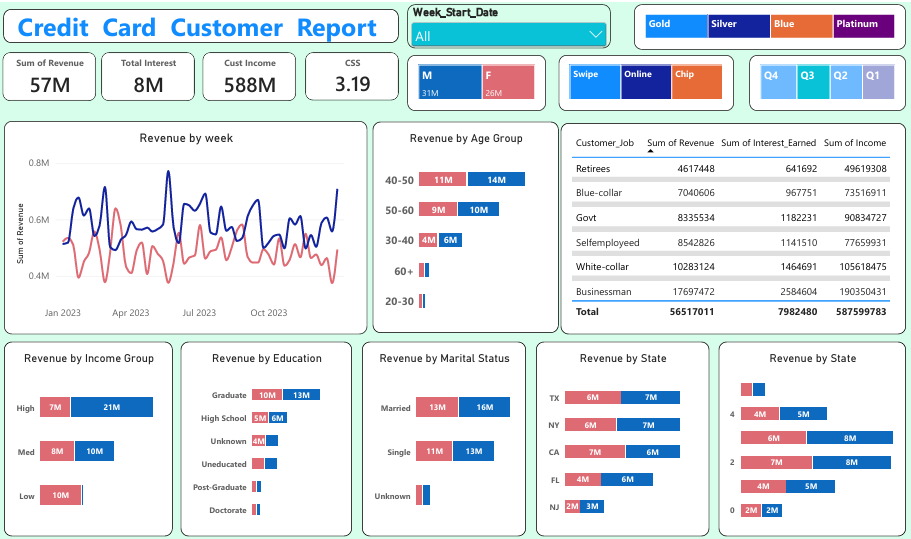

The dashboard page shown, as its layout file describes it:
{"tool":"powerbi","page":{"name":"CC Customer","canvas":[1920,1080],"ordinal":1},"visuals":[{"type":"textbox","box":[14.3,8.6,592.9,51.4],"z":0},{"type":"barChart","title":"Revenue by Income Group","fields":{"Category":["ccdb cust_detail.IncomeGroup"],"Series":["ccdb cust_detail.Gender"],"Y":["Sum(ccdb cc_detail.Revenue)"]},"box":[15,508.3,253.3,291.7],"z":1},{"type":"tableEx","fields":{"Values":["ccdb cust_detail.Customer_Job","Sum(ccdb cc_detail.Revenue)","Sum(ccdb cc_detail.Interest_Earned)","Sum(ccdb cust_detail.Income)"]},"box":[850,180,518.3,316.7],"z":2},{"type":"cardVisual","title":"Revenue","fields":{"Data":["Sum(ccdb cc_detail.Revenue)"]},"box":[12.9,74.3,140,72.9],"z":3},{"type":"cardVisual","title":"R","fields":{"Data":["Sum(ccdb cc_detail.Interest_Earned)"]},"box":[161.4,74.3,140,72.5],"z":4},{"type":"cardVisual","title":"R","fields":{"Data":["Sum(ccdb cust_detail.Income)"]},"box":[312.9,74.3,140,72.5],"z":5},{"type":"cardVisual","title":"R","fields":{"Data":["Avg(ccdb cust_detail.Cust_Satisfaction_Score)"]},"box":[467.1,74.3,140,72],"z":6},{"type":"slicer","fields":{"Values":["ccdb cc_detail.Week_Start_Date"]},"box":[620,1.7,305,66.7],"z":7},{"type":"treemap","fields":{"Group":["ccdb cc_detail.Qtr"],"Values":["Avg(ccdb cc_detail.Client_Num)"]},"box":[1133.3,78.3,235,83.3],"z":8},{"type":"treemap","fields":{"Group":["ccdb cc_detail.Card_Category"],"Values":["Avg(ccdb cc_detail.Client_Num)"]},"box":[960,1.7,408.3,68.3],"z":10},{"type":"lineChart","title":"Revenue by week","fields":{"Category":["ccdb cc_detail.Week_Start_Date.Variation.Date Hierarchy.Year","ccdb cc_detail.Week_Start_Date.Variation.Date Hierarchy.Month","ccdb cc_detail.Week_Start_Date.Variation.Date Hierarchy.Day"],"Series":["ccdb cust_detail.Gender"],"Y":["Sum(ccdb cc_detail.Revenue)"]},"box":[15,176.7,545,320],"z":12},{"type":"treemap","fields":{"Group":["ccdb cust_detail.Gender"],"Values":["Sum(ccdb cc_detail.Revenue)"]},"box":[620,78.3,208.3,83.3],"z":13},{"type":"barChart","title":"Revenue by Education","fields":{"Category":["ccdb cust_detail.Education_Level"],"Series":["ccdb cust_detail.Gender"],"Y":["Sum(ccdb cc_detail.Revenue)"]},"box":[280,508.3,256.7,291.7],"z":15},{"type":"barChart","title":"Revenue by Marital Status","fields":{"Category":["ccdb cust_detail.Marital_Status"],"Series":["ccdb cust_detail.Gender"],"Y":["Sum(ccdb cc_detail.Revenue)"]},"box":[551.7,508.3,246.7,291.7],"z":16},{"type":"barChart","title":"Revenue by State","fields":{"Category":["ccdb cust_detail.state_cd"],"Series":["ccdb cust_detail.Gender"],"Y":["Sum(ccdb cc_detail.Revenue)"]},"box":[813.3,508.3,260,291.7],"z":17},{"type":"barChart","title":"Revenue by Age Group","fields":{"Category":["ccdb cust_detail.AgeGroup"],"Series":["ccdb cust_detail.Gender"],"Y":["Sum(ccdb cc_detail.Revenue)"]},"box":[568.3,178.3,278.3,316.7],"z":18},{"type":"barChart","title":"Revenue by State","fields":{"Category":["ccdb cust_detail.Dependent_Count"],"Series":["ccdb cust_detail.Gender"],"Y":["Sum(ccdb cc_detail.Revenue)"]},"box":[1086.7,508.3,281.7,291.7],"z":19},{"type":"treemap","fields":{"Group":["ccdb cc_detail.Use_Chip"],"Values":["Avg(ccdb cc_detail.Client_Num)"]},"box":[846.7,78.3,263.3,83.3],"z":20}]}

Visuals, with their boxes on the page's 1920x1080 design canvas (x1, y1, x2, y2). These are canvas units, not pixel positions in the 911x539 screenshot, which may show the page scaled, cropped or inside an application window:
textbox: detection(14, 9, 607, 60)
"Revenue by Income Group" barChart: detection(15, 508, 268, 800)
tableEx - ccdb cust_detail.Customer_Job x Sum(ccdb cc_detail.Revenue): detection(850, 180, 1368, 497)
"Revenue" cardVisual: detection(13, 74, 153, 147)
"R" cardVisual: detection(161, 74, 301, 147)
"R" cardVisual: detection(313, 74, 453, 147)
"R" cardVisual: detection(467, 74, 607, 146)
slicer - ccdb cc_detail.Week_Start_Date: detection(620, 2, 925, 68)
treemap - ccdb cc_detail.Qtr x Avg(ccdb cc_detail.Client_Num): detection(1133, 78, 1368, 162)
treemap - ccdb cc_detail.Card_Category x Avg(ccdb cc_detail.Client_Num): detection(960, 2, 1368, 70)
"Revenue by week" lineChart: detection(15, 177, 560, 497)
treemap - ccdb cust_detail.Gender x Sum(ccdb cc_detail.Revenue): detection(620, 78, 828, 162)
"Revenue by Education" barChart: detection(280, 508, 537, 800)
"Revenue by Marital Status" barChart: detection(552, 508, 798, 800)
"Revenue by State" barChart: detection(813, 508, 1073, 800)
"Revenue by Age Group" barChart: detection(568, 178, 847, 495)
"Revenue by State" barChart: detection(1087, 508, 1368, 800)
treemap - ccdb cc_detail.Use_Chip x Avg(ccdb cc_detail.Client_Num): detection(847, 78, 1110, 162)
